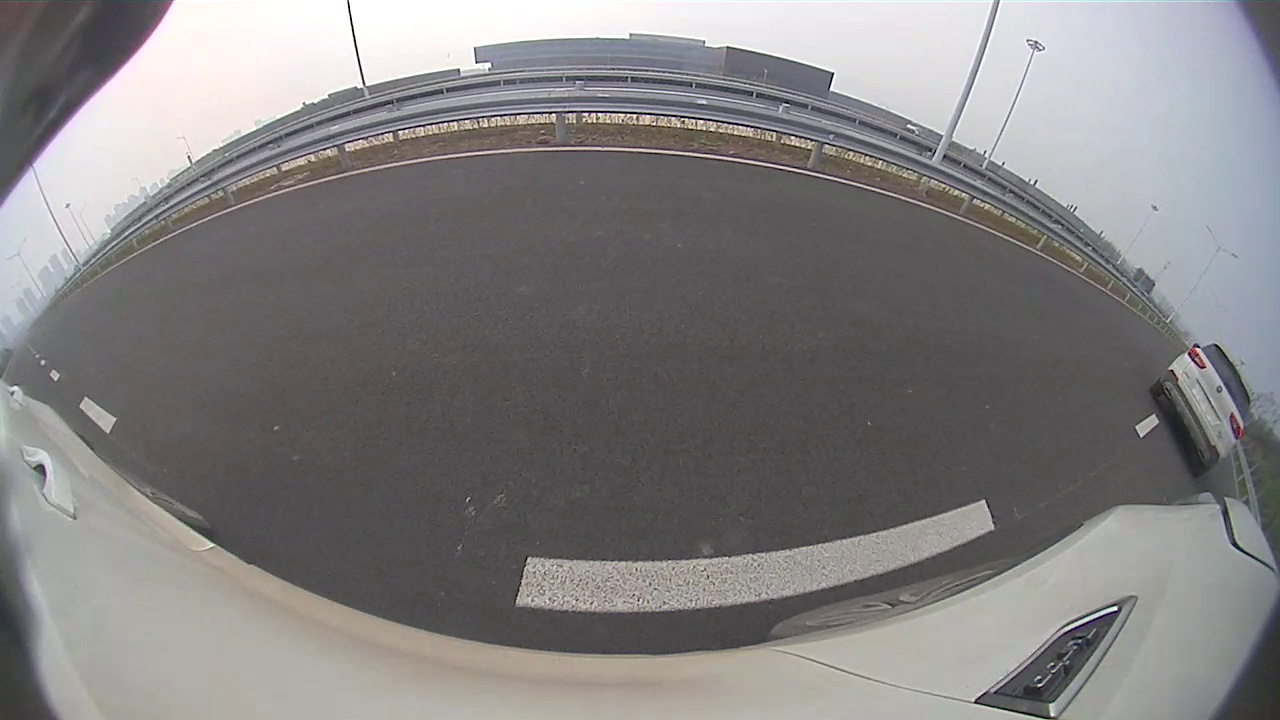car: (1148, 341, 1253, 477)
